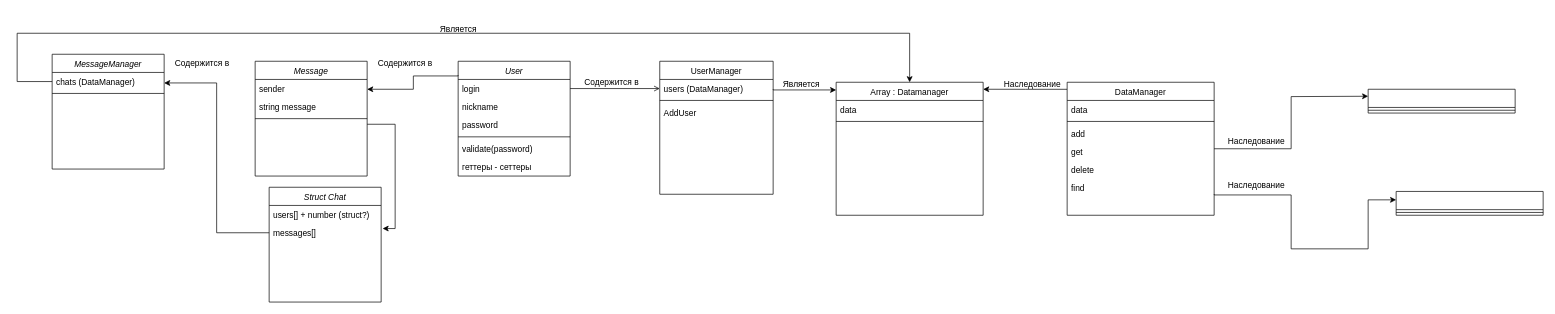
This 1555x314 diagram has some shape labels left out. The centre of each missing label's shape, as x and y in pixels:
"DataBase" belongs at (1441,101).
"FileSystem" belongs at (1469,203).
